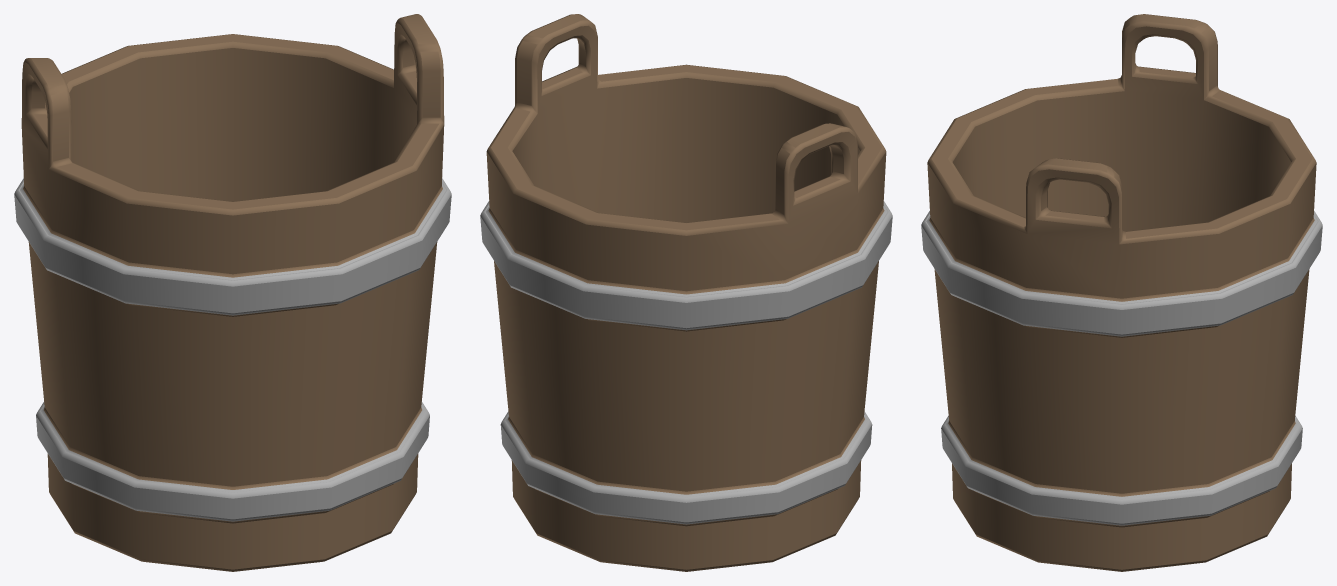
The model's file is BaldeMadeira.fbx.
3 renders of one model, left to right at view 1: azimuth 30°, elevation 25°; view 2: azimuth 150°, elevation 25°; view 3: azimuth 270°, elevation 25°, orthographic. The views are drawn at different scales.
Parts seen in each view (by area): view 1: BaldeMadeira; view 2: BaldeMadeira; view 3: BaldeMadeira.
Part boxes in pixels (box(x1,y1,x2,y2)): BaldeMadeira: box(14, 14, 451, 571); BaldeMadeira: box(480, 14, 892, 571); BaldeMadeira: box(921, 14, 1322, 571).
Size of the model in its own units: 33.69 by 37.95 by 33.69.
